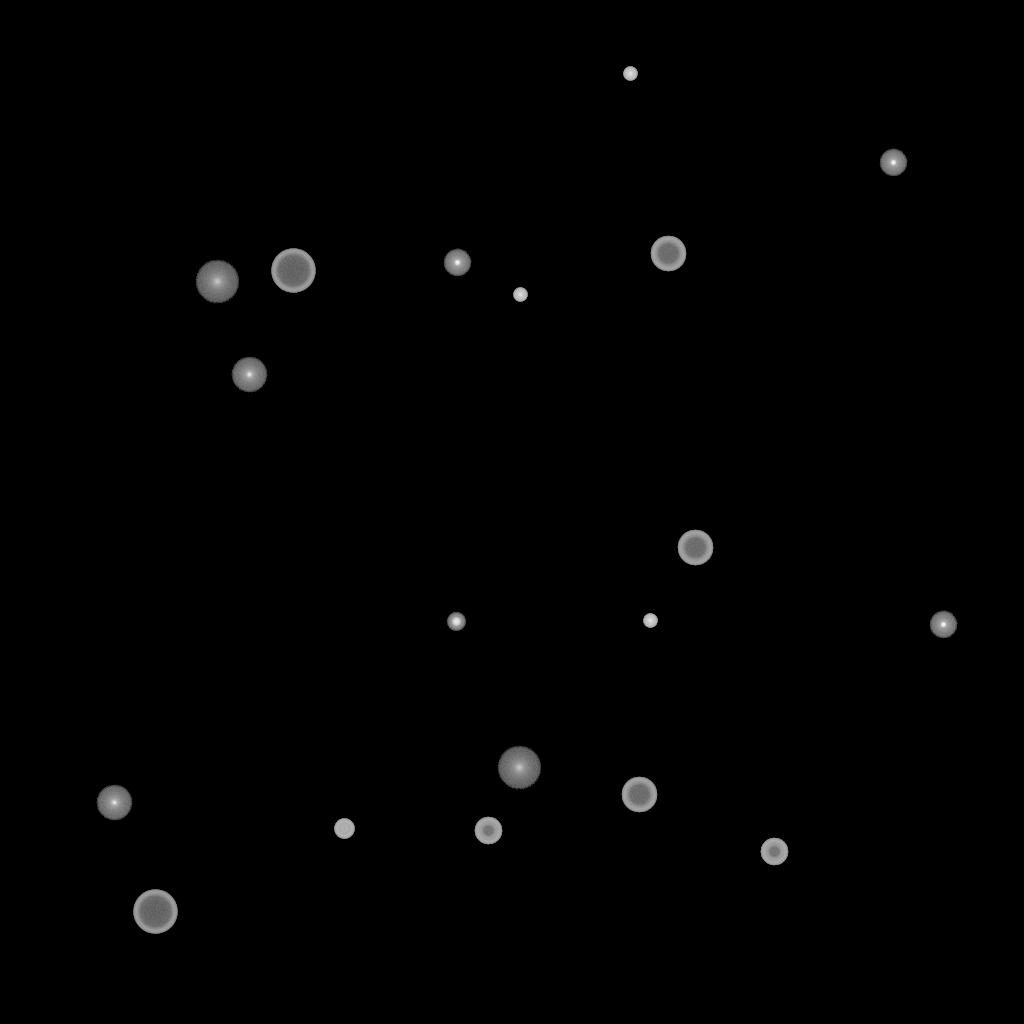depth:-10: (879, 149, 907, 177), (443, 249, 471, 277), (929, 611, 957, 639)
depth:-20: (447, 613, 465, 631)
depth:-30: (513, 288, 527, 302), (643, 614, 657, 628), (623, 67, 637, 81)
depth:-40: (334, 819, 354, 839)
depth:-50: (474, 817, 502, 845), (760, 838, 788, 866)
depth:-60: (677, 530, 713, 566), (621, 777, 657, 813), (650, 236, 686, 272)
depth:-70: (271, 249, 315, 293), (133, 890, 177, 934)
depth:0: (231, 357, 267, 393), (96, 785, 132, 821)
depth:10: (195, 260, 239, 304), (497, 746, 541, 790)
